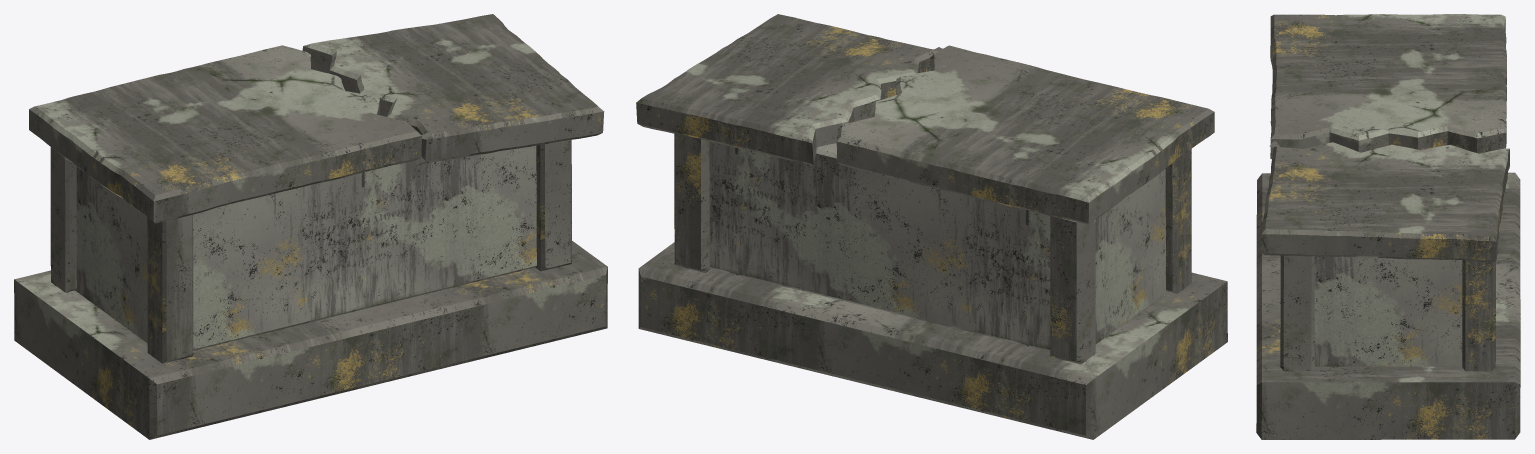
File: ChestTomb.gltf
3 renders of one model, left to right at view 1: azimuth 30°, elevation 25°; view 2: azimuth 150°, elevation 25°; view 3: azimuth 270°, elevation 25°, orthographic. The views are drawn at different scales.
Visible parts, largest first — view 1: ChestTomb; view 2: ChestTomb; view 3: ChestTomb.
Boxes of the visible parts, bbox=[...] form: ChestTomb: bbox=[14, 14, 607, 439]; ChestTomb: bbox=[636, 14, 1227, 439]; ChestTomb: bbox=[1256, 14, 1520, 439].
Size of the model in its own units: 2.41 by 1.16 by 1.25.
2 materials, 2 textured.
